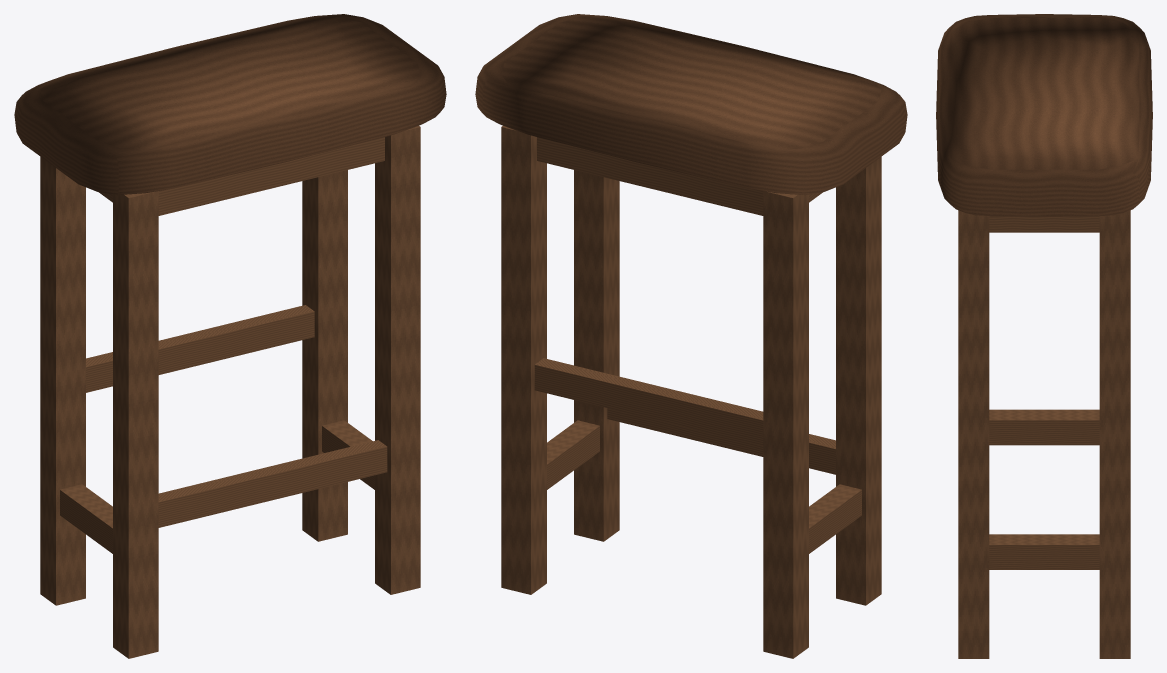
3 views of the same model, side by side, from view 1: azimuth 30°, elevation 25°; view 2: azimuth 150°, elevation 25°; view 3: azimuth 270°, elevation 25° (orthographic). The views are drawn at different scales.
Parts seen in each view (by area): view 1: 1 seat, 6 leg_front_left, 7 leg_front_right, 8 leg_back_left, 9 leg_back_right, 10 stretcher_front, 11 stretcher_back, 2 apron_front, 12 stretcher_left, 13 stretcher_right; view 2: 1 seat, 8 leg_back_left, 9 leg_back_right, 6 leg_front_left, 7 leg_front_right, 11 stretcher_back, 3 apron_back, 10 stretcher_front, 12 stretcher_left, 13 stretcher_right; view 3: 1 seat, 7 leg_front_right, 9 leg_back_right, 12 stretcher_left, 13 stretcher_right, 5 apron_right.
Boxes of the visible parts, box(x1,y1,x2,y2) form: 1 seat: box(14, 14, 446, 195); 6 leg_front_left: box(113, 191, 158, 658); 7 leg_front_right: box(375, 125, 420, 594); 8 leg_back_left: box(40, 157, 85, 605); 9 leg_back_right: box(302, 170, 347, 541); 10 stretcher_front: box(158, 440, 387, 527); 11 stretcher_back: box(86, 305, 314, 392); 2 apron_front: box(158, 137, 384, 215); 12 stretcher_left: box(60, 484, 112, 553); 13 stretcher_right: box(322, 420, 374, 489); 1 seat: box(475, 14, 907, 195); 8 leg_back_left: box(763, 191, 808, 658); 9 leg_back_right: box(501, 125, 546, 594); 6 leg_front_left: box(836, 157, 881, 605); 7 leg_front_right: box(574, 170, 619, 541); 11 stretcher_back: box(534, 358, 763, 445); 3 apron_back: box(537, 137, 763, 215); 10 stretcher_front: box(607, 408, 835, 474); 12 stretcher_left: box(809, 484, 861, 553); 13 stretcher_right: box(547, 420, 599, 489); 1 seat: box(936, 14, 1152, 216); 7 leg_front_right: box(958, 210, 989, 658); 9 leg_back_right: box(1099, 210, 1130, 658); 12 stretcher_left: box(989, 409, 1099, 445); 13 stretcher_right: box(989, 534, 1099, 569); 5 apron_right: box(989, 216, 1099, 232).
Bounding box in the file's own units: 0.75 × 1 × 0.394.
Materials: 2 (2 with a texture image).
